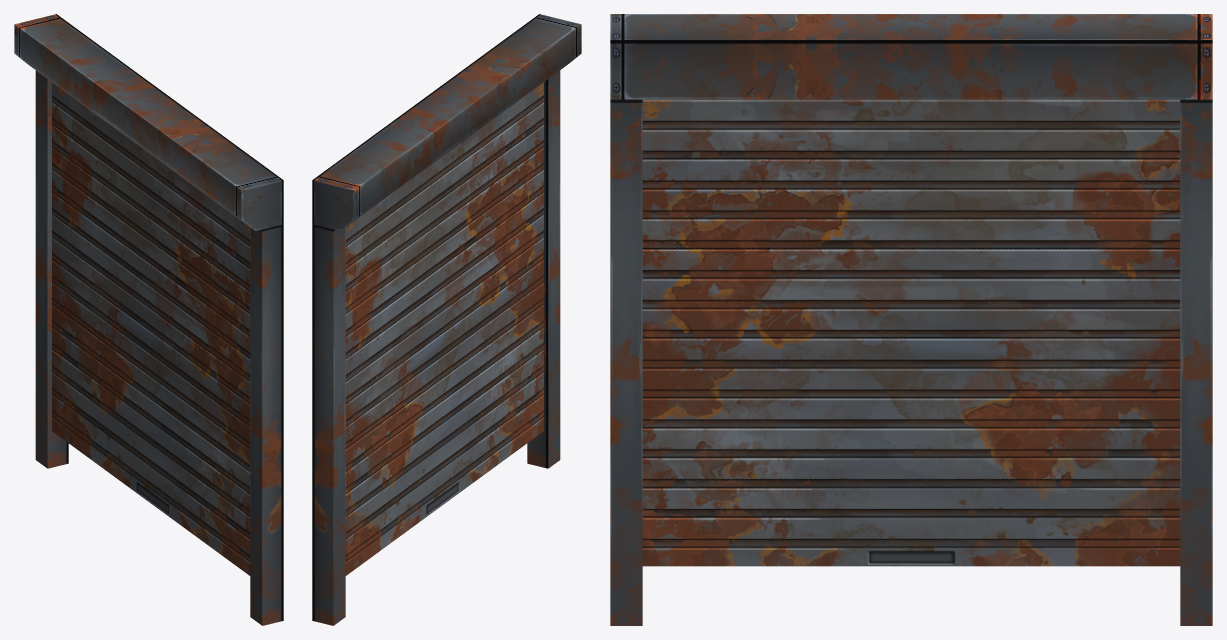
The model's file is rollerShutter02_3m.fbx.
3 renders of one model, left to right at view 1: azimuth 30°, elevation 25°; view 2: azimuth 150°, elevation 25°; view 3: azimuth 270°, elevation 25°, orthographic. The views are drawn at different scales.
Parts seen in each view (by area): view 1: rollerShutter02_3m; view 2: rollerShutter02_3m; view 3: rollerShutter02_3m.
Boxes of the visible parts, <box> form: rollerShutter02_3m: <box>14,14,283,625</box>; rollerShutter02_3m: <box>312,14,581,625</box>; rollerShutter02_3m: <box>610,14,1212,625</box>.
Bounding box in the file's own units: 30 × 300 × 280.
